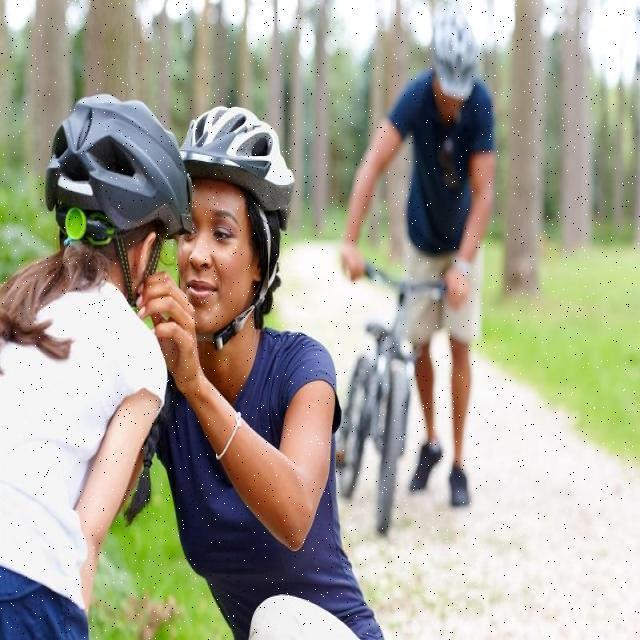helmet: (176, 104, 300, 352)
